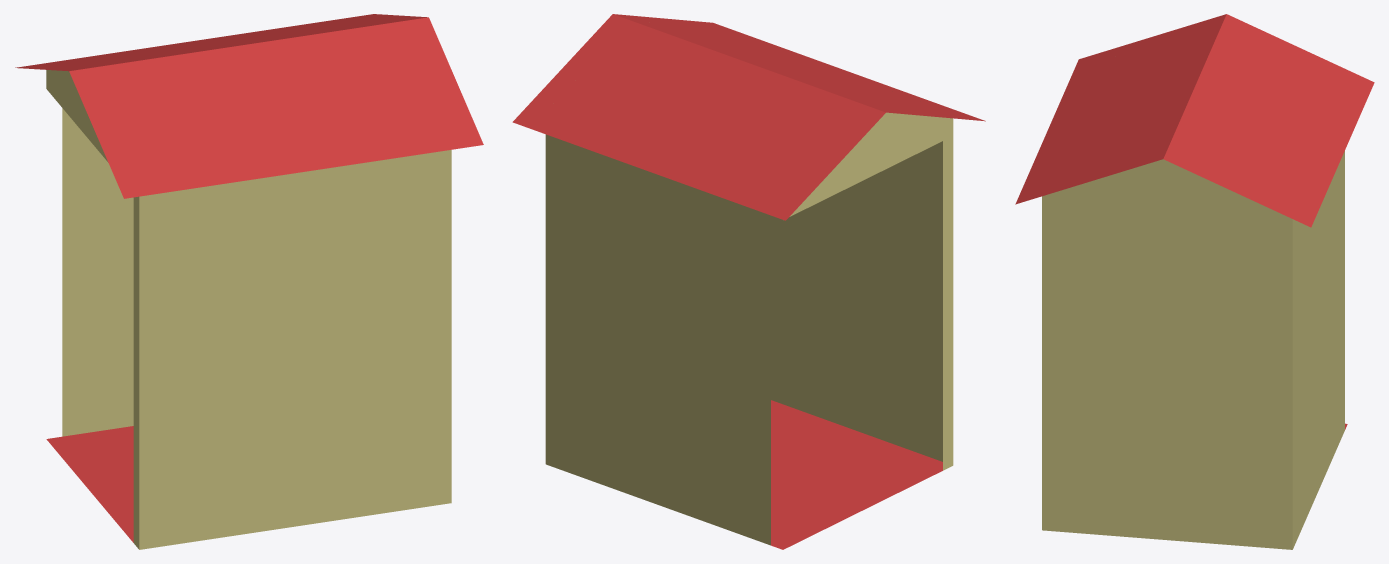
The picture shows the model from 3 angles, left to right: view 1: azimuth 30°, elevation 25°; view 2: azimuth 150°, elevation 25°; view 3: azimuth 270°, elevation 25°; orthographic projection. The views are drawn at different scales.
Parts seen in each view (by area): view 1: group_5, group_3, group_4, group_6; view 2: group_5, group_3, group_6, group_4; view 3: group_5, group_3, group_4.
Part boxes in pixels (x1=…): group_5: x1=46, y1=70, x2=451, y2=549; group_3: x1=15, y1=15, x2=483, y2=198; group_4: x1=69, y1=14, x2=481, y2=198; group_6: x1=46, y1=426, x2=133, y2=542; group_5: x1=545, y1=112, x2=953, y2=545; group_3: x1=514, y1=14, x2=951, y2=220; group_6: x1=771, y1=400, x2=942, y2=549; group_4: x1=512, y1=14, x2=985, y2=152; group_5: x1=1042, y1=151, x2=1344, y2=549; group_3: x1=1015, y1=14, x2=1374, y2=226; group_4: x1=1016, y1=14, x2=1318, y2=227.
Bounding box in the file's own units: 12.96 × 11.7 × 14.03.
